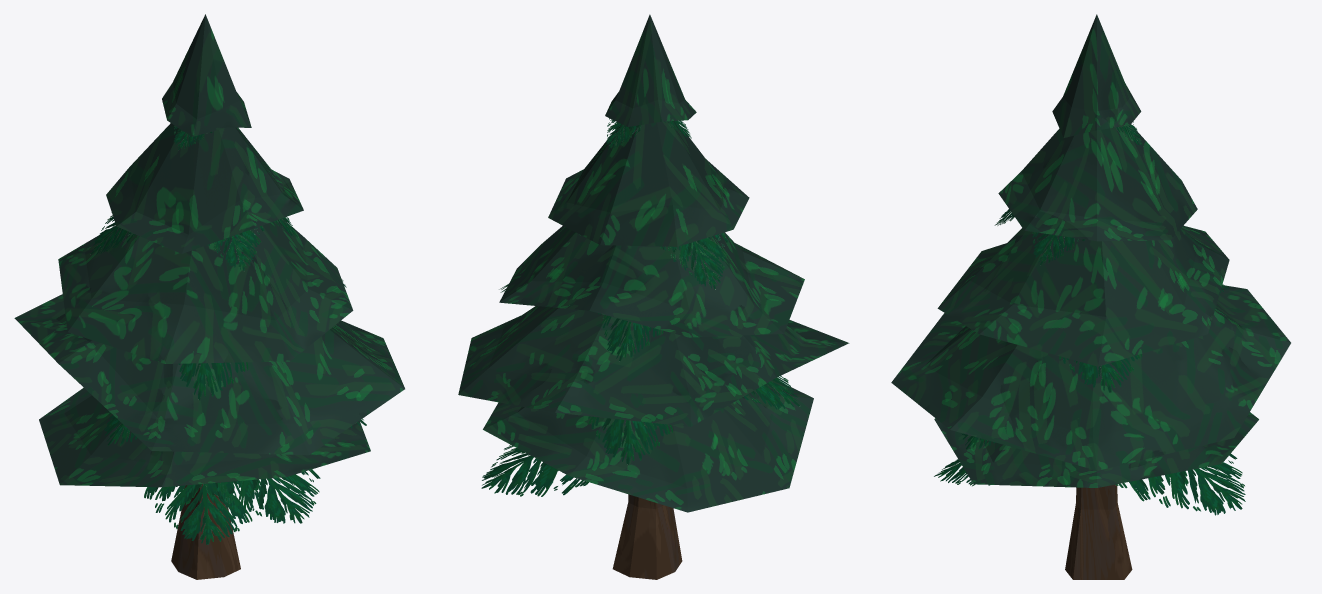
File: C_Tree_small.fbx
3 renders of one model, left to right at view 1: azimuth 30°, elevation 25°; view 2: azimuth 150°, elevation 25°; view 3: azimuth 270°, elevation 25°, orthographic.
Visible parts, largest first — view 1: Cube; view 2: Cube; view 3: Cube.
Boxes of the visible parts, left/top/right/bottom form: Cube: left=14, top=14, right=404, bottom=579; Cube: left=458, top=14, right=849, bottom=579; Cube: left=891, top=14, right=1290, bottom=579.
Bounding box in the file's own units: 4.91 × 8.06 × 5.66.
